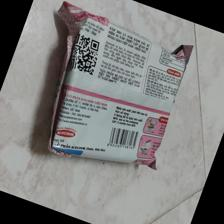Haohao: (45, 1, 196, 175)
